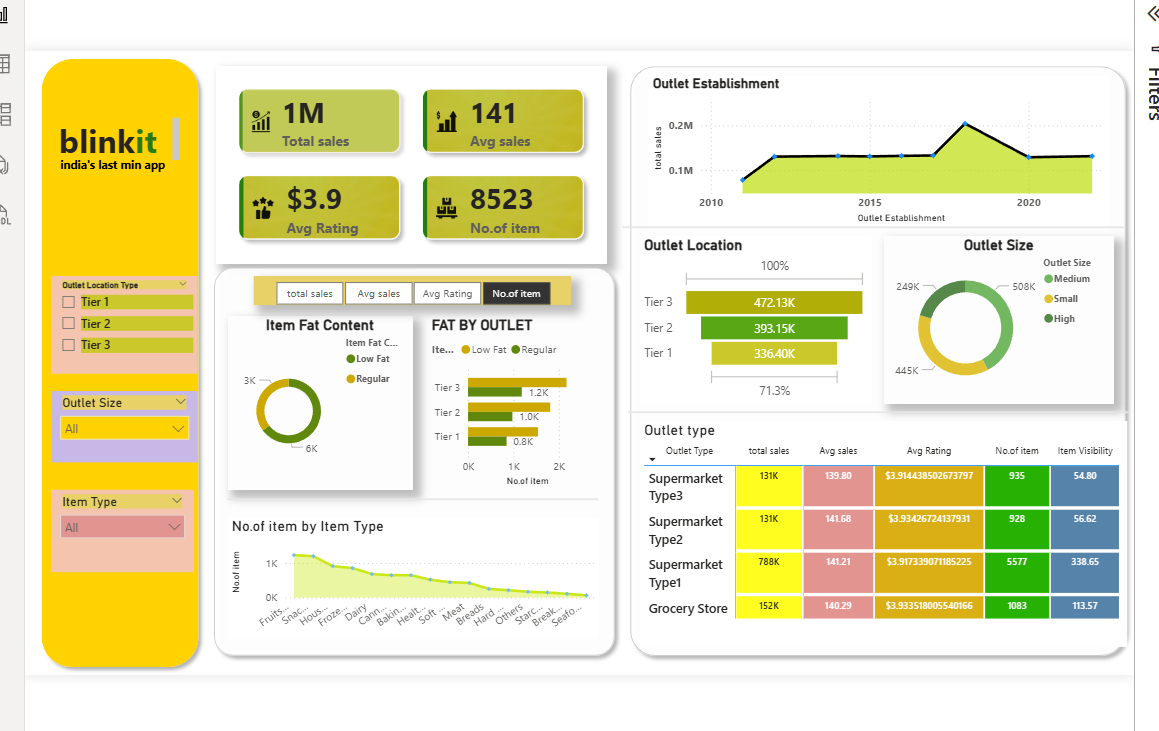

This screenshot's page, from the dashboard's own definition file:
{"tool":"powerbi","page":{"name":"Page 1","canvas":[1280,720],"ordinal":0},"visuals":[{"type":"shape","box":[10.1,0,199.1,719.9],"z":0},{"type":"textbox","box":[24.5,72.1,158.7,59.2],"z":1000},{"type":"textbox","box":[24.5,116.9,168.8,96.7],"z":2000},{"type":"cardVisual","fields":{"Data":["BlinkIT Grocery Data.total sales","BlinkIT Grocery Data.Avg sales","BlinkIT Grocery Data.Avg Rating","BlinkIT Grocery Data.No.of item"]},"box":[220.7,17.3,451.6,228],"z":3000},{"type":"shape","box":[209.2,240.9,480.4,466],"z":4000},{"type":"donutChart","title":"Item Fat Content","fields":{"Y":["BlinkIT Grocery Data.No.of item"],"Category":["BlinkIT Grocery Data.Item Fat Content"]},"box":[233.7,305.9,213.5,200.5],"z":5000},{"type":"slicer","fields":{"Values":["Matrics.Matrics"]},"box":[263.6,259.7,366.2,33.8],"z":6000},{"type":"clusteredBarChart","title":" FAT BY OUTLET","fields":{"Y":["BlinkIT Grocery Data.No.of item"],"Category":["BlinkIT Grocery Data.Outlet Location Type"],"Series":["BlinkIT Grocery Data.Item Fat Content"]},"box":[464.7,305.9,197.1,201.5],"z":7000},{"type":"stackedAreaChart","fields":{"Y":["BlinkIT Grocery Data.No.of item"],"Category":["BlinkIT Grocery Data.Item Type"]},"box":[233.7,538.2,428.5,139.9],"z":8000},{"type":"shape","box":[689.7,8.8,589.7,698.5],"z":9000},{"type":"lineChart","title":"Outlet Establishment","fields":{"Y":["BlinkIT Grocery Data.total sales"],"Category":["BlinkIT Grocery Data.Outlet Establishment Year"]},"box":[719.9,28.9,530.9,174.6],"z":10000},{"type":"shape","box":[233.8,507.4,427.9,19.1],"z":11000},{"type":"donutChart","title":"Outlet Size","fields":{"Y":["BlinkIT Grocery Data.total sales"],"Category":["BlinkIT Grocery Data.Outlet Size"]},"box":[991.2,213.5,265.5,193.3],"z":12000},{"type":"shape","box":[689.6,193.3,578.5,20.2],"z":13000},{"type":"shape","box":[696.9,406.9,577.1,20.2],"z":14000},{"type":"funnel","title":" Outlet Location ","fields":{"Y":["Sum(BlinkIT Grocery Data.Sales)"],"Category":["BlinkIT Grocery Data.Outlet Location Type"]},"box":[709.8,213.5,266.9,193.3],"z":15000},{"type":"pivotTable","title":"Outlet type","fields":{"Values":["BlinkIT Grocery Data.total sales","BlinkIT Grocery Data.Avg sales","BlinkIT Grocery Data.Avg Rating","BlinkIT Grocery Data.No.of item","Sum(BlinkIT Grocery Data.Item Visibility)"],"Rows":["BlinkIT Grocery Data.Outlet Type"]},"box":[709.8,427.1,562.7,261.1],"z":16000},{"type":"slicer","fields":{"Values":["BlinkIT Grocery Data.Outlet Location Type"]},"box":[30.3,259.7,168.8,112.5],"z":17000},{"type":"slicer","fields":{"Values":["BlinkIT Grocery Data.Outlet Size"]},"box":[30.3,392.4,168.8,82.2],"z":19000},{"type":"slicer","fields":{"Values":["BlinkIT Grocery Data.Item Type"]},"box":[30.3,506.4,164.5,95.2],"z":20000}]}

Visuals, with their boxes on the page's 1280x720 design canvas (x1, y1, x2, y2). These are canvas units, not pixel positions in the 1159x731 screenshot, which may show the page scaled, cropped or inside an application window:
shape: {"left": 10, "top": 0, "right": 209, "bottom": 720}
textbox: {"left": 24, "top": 72, "right": 183, "bottom": 131}
textbox: {"left": 24, "top": 117, "right": 193, "bottom": 214}
cardVisual - BlinkIT Grocery Data.total sales x BlinkIT Grocery Data.Avg sales: {"left": 221, "top": 17, "right": 672, "bottom": 245}
shape: {"left": 209, "top": 241, "right": 690, "bottom": 707}
"Item Fat Content" donutChart: {"left": 234, "top": 306, "right": 447, "bottom": 506}
slicer - Matrics.Matrics: {"left": 264, "top": 260, "right": 630, "bottom": 294}
" FAT BY OUTLET" clusteredBarChart: {"left": 465, "top": 306, "right": 662, "bottom": 507}
stackedAreaChart - BlinkIT Grocery Data.No.of item x BlinkIT Grocery Data.Item Type: {"left": 234, "top": 538, "right": 662, "bottom": 678}
shape: {"left": 690, "top": 9, "right": 1279, "bottom": 707}
"Outlet Establishment" lineChart: {"left": 720, "top": 29, "right": 1251, "bottom": 204}
shape: {"left": 234, "top": 507, "right": 662, "bottom": 526}
"Outlet Size" donutChart: {"left": 991, "top": 214, "right": 1257, "bottom": 407}
shape: {"left": 690, "top": 193, "right": 1268, "bottom": 214}
shape: {"left": 697, "top": 407, "right": 1274, "bottom": 427}
" Outlet Location " funnel: {"left": 710, "top": 214, "right": 977, "bottom": 407}
"Outlet type" pivotTable: {"left": 710, "top": 427, "right": 1272, "bottom": 688}
slicer - BlinkIT Grocery Data.Outlet Location Type: {"left": 30, "top": 260, "right": 199, "bottom": 372}
slicer - BlinkIT Grocery Data.Outlet Size: {"left": 30, "top": 392, "right": 199, "bottom": 475}
slicer - BlinkIT Grocery Data.Item Type: {"left": 30, "top": 506, "right": 195, "bottom": 602}
